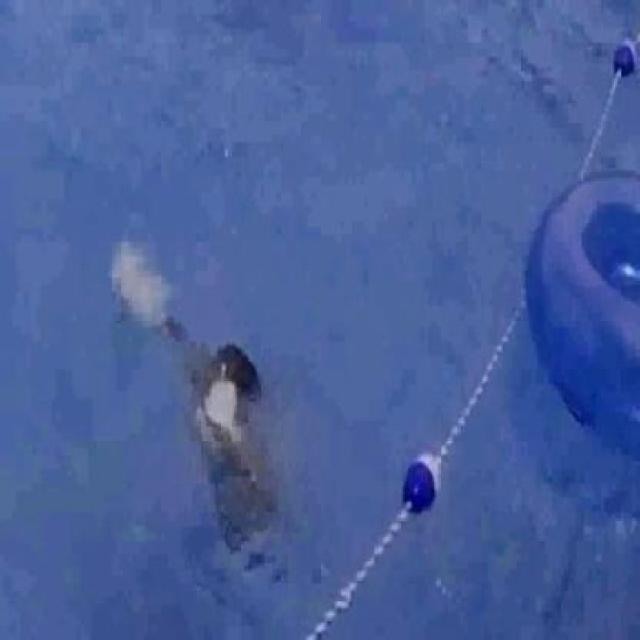drowning: (166, 298, 280, 557)
